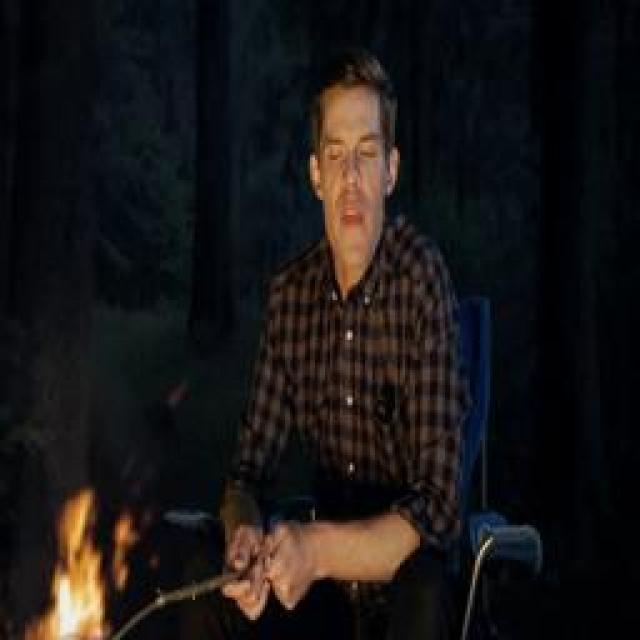Fire: (15, 487, 135, 640)
